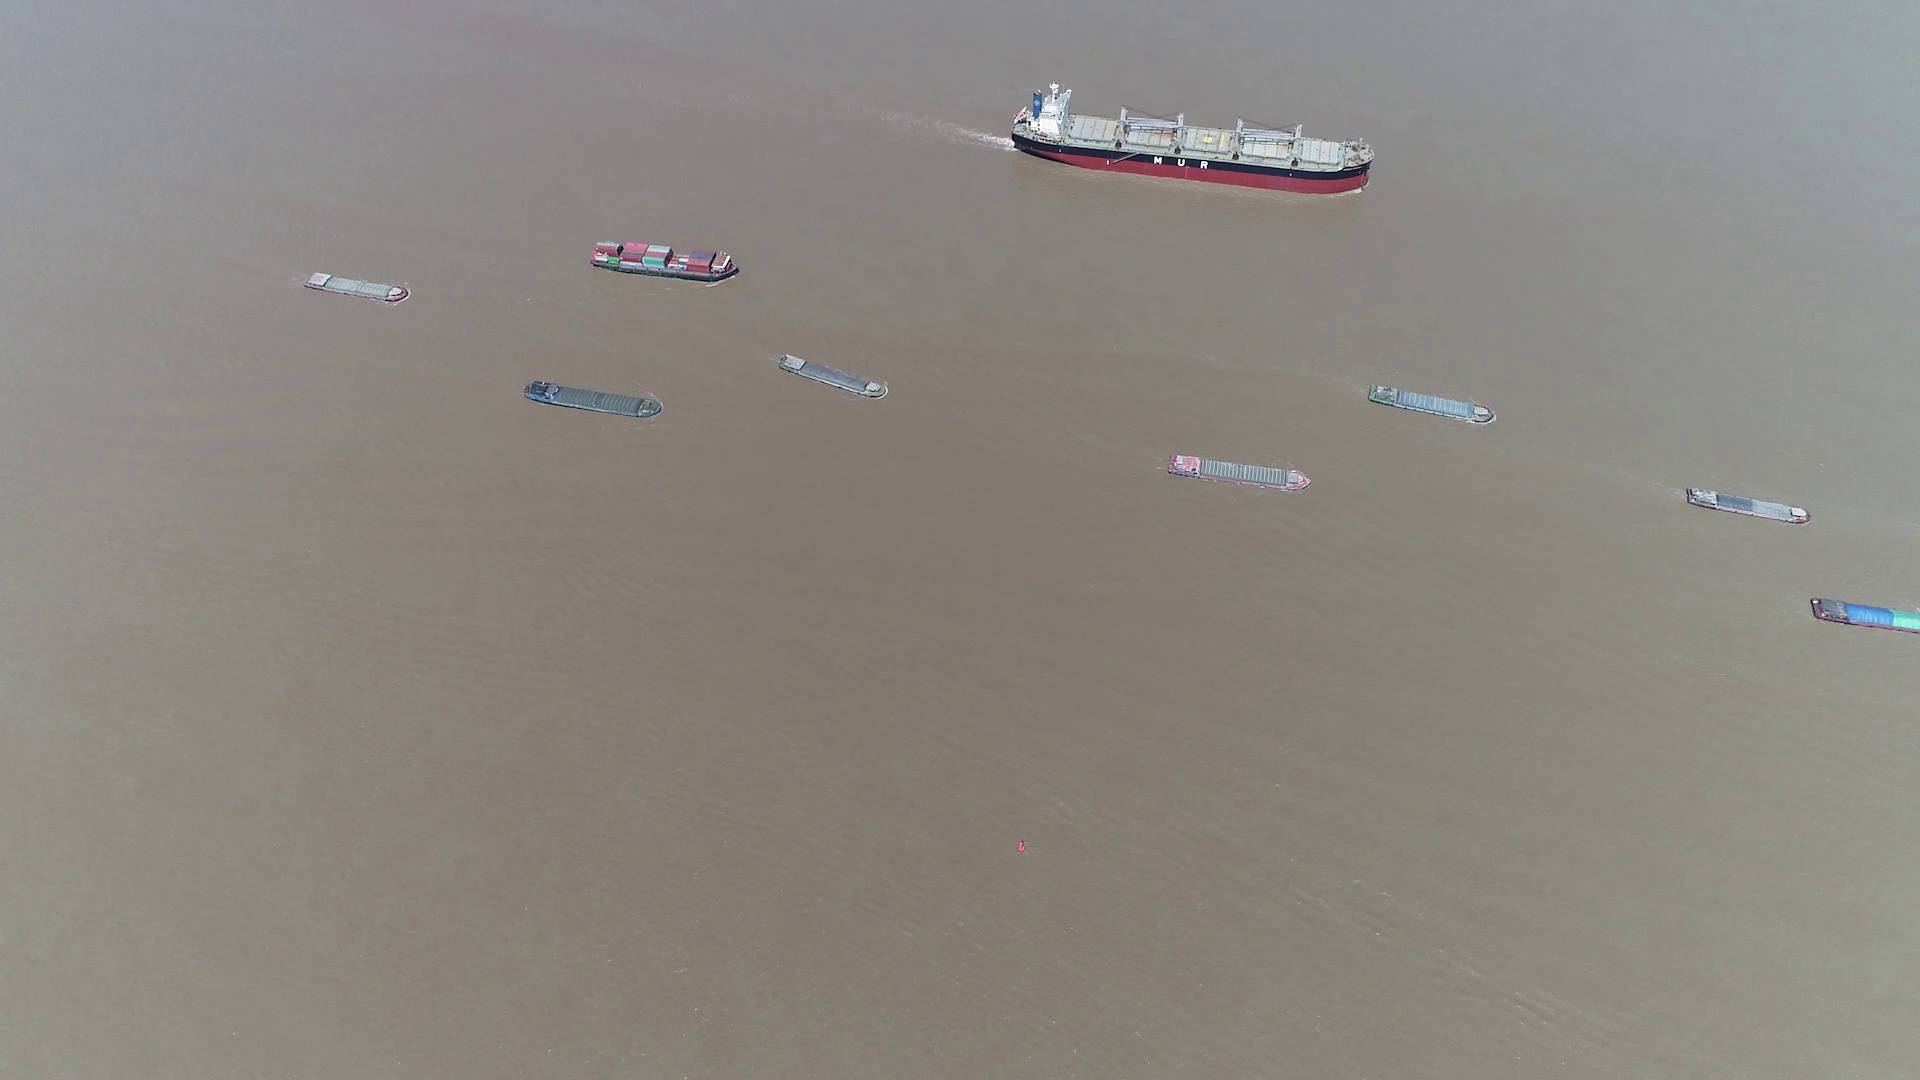ship: (1011, 88, 1371, 193), (591, 241, 740, 282), (1164, 451, 1311, 491), (1367, 382, 1499, 425), (778, 353, 889, 401), (524, 380, 661, 418), (1683, 487, 1811, 526), (1811, 597, 1920, 634), (302, 272, 409, 302)
